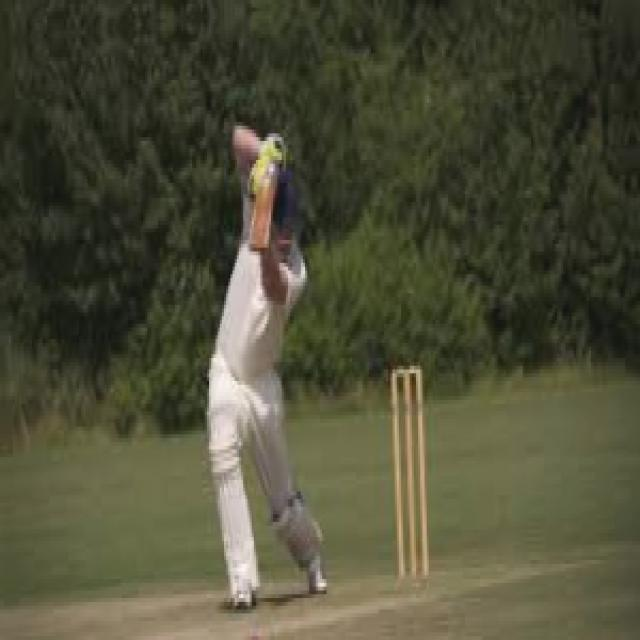bat: (247, 171, 274, 258)
toe: (245, 243, 270, 254)
